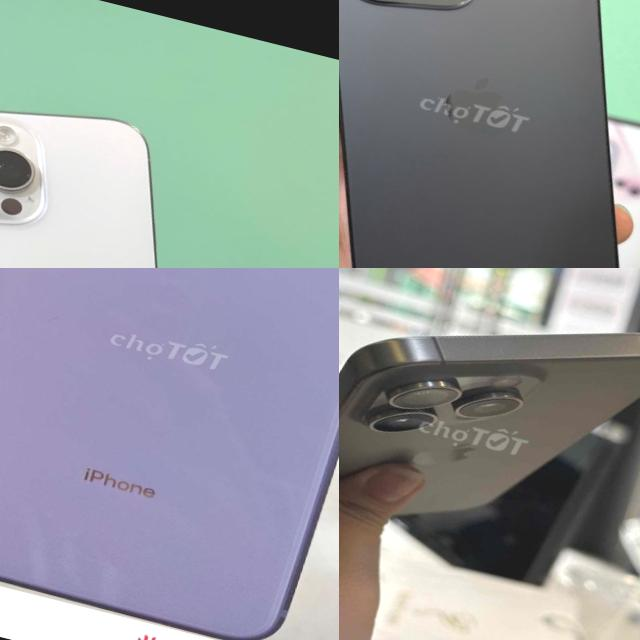gen_14: (339, 0, 640, 268)
gen_15: (339, 268, 640, 611), (0, 67, 281, 268)
gen_7_8: (0, 268, 339, 640)
